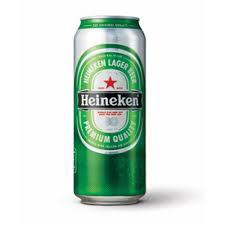beer: (71, 15, 149, 207)
